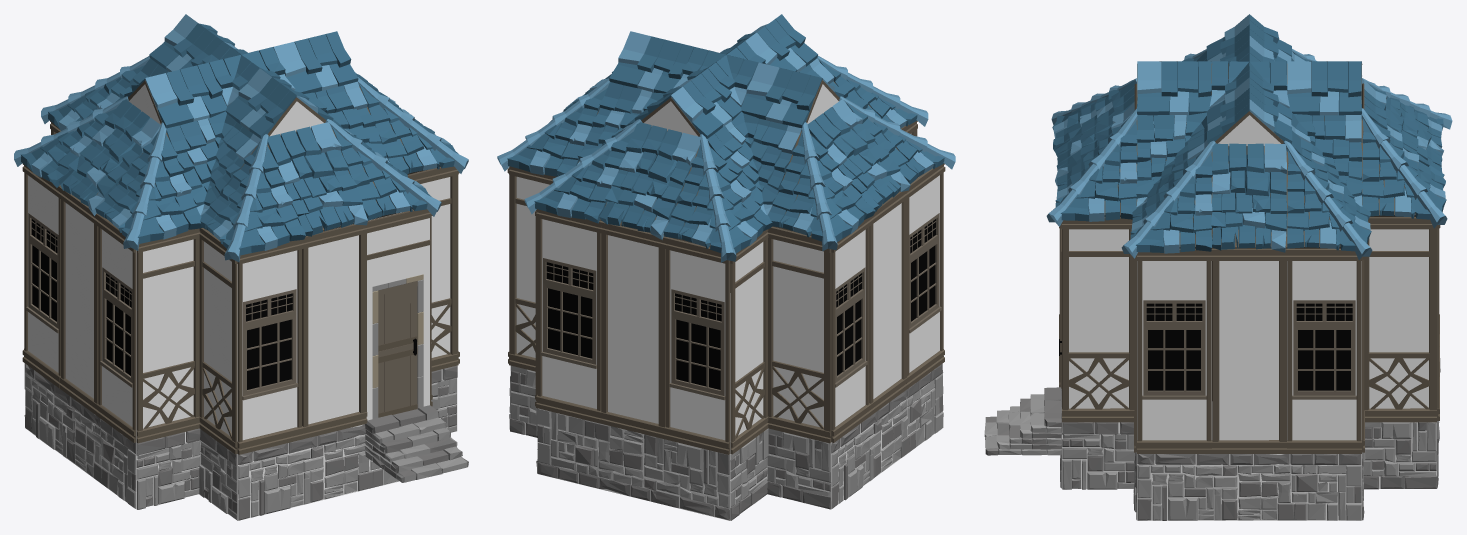
File: House_03_full.fbx
The picture shows the model from 3 angles, left to right: view 1: azimuth 30°, elevation 25°; view 2: azimuth 150°, elevation 25°; view 3: azimuth 270°, elevation 25°; orthographic projection.
Visible parts, largest first — view 1: WALL_03_3, WINDOW_04_3, WALL_04_4, DOOR_02_2, FOUNDATION_02_10, WINDOW_04_4, WALL_04_3, WALL_03_4, WINDOW_04_5, FOUNDATION_02_11, ROOF_base_3, ROOF_corner_out_3 (+20 smaller); view 2: WALL_03_5, WINDOW_04_6, WINDOW_04_7, WALL_04_5, FOUNDATION_02_12, WALL_03_4, WINDOW_04_5, WALL_04_6, WINDOW_04_4, FOUNDATION_02_11, ROOF_base_5, ROOF_corner_out_6 (+21 smaller); view 3: WALL_03_6, WINDOW_04_8, WINDOW_04_9, FOUNDATION_02_13, WALL_04_7, WALL_04_10, ROOF_base_4, ROOF_corner_out_5, ROOF_corner_out_4, ROOF_corner_out_2, ROOF_corner_out_7, FOUNDATION_03_17 (+19 smaller).
Part boxes in pixels (box(x1,y1,x2,y2)): WALL_03_3: box(302, 223, 367, 438); WINDOW_04_3: box(237, 240, 303, 454); WALL_04_4: box(136, 228, 200, 443); DOOR_02_2: box(366, 209, 431, 420); FOUNDATION_02_10: box(237, 424, 399, 520); WINDOW_04_4: box(96, 214, 136, 442); WALL_04_3: box(199, 228, 237, 454); WALL_03_4: box(59, 187, 98, 415); WINDOW_04_5: box(22, 163, 61, 388); FOUNDATION_02_11: box(25, 364, 136, 509); ROOF_base_3: box(267, 122, 367, 236); ROOF_corner_out_3: box(200, 134, 305, 262); WALL_03_5: box(600, 221, 665, 438); WINDOW_04_6: box(664, 237, 730, 454); WINDOW_04_7: box(536, 209, 601, 423); WALL_04_5: box(767, 226, 831, 443); FOUNDATION_02_12: box(537, 408, 729, 520); WALL_03_4: box(869, 190, 907, 415); WINDOW_04_5: box(831, 217, 870, 442); WALL_04_6: box(730, 229, 768, 454); WINDOW_04_4: box(906, 163, 945, 388); FOUNDATION_02_11: box(831, 364, 943, 508); ROOF_base_5: box(599, 122, 700, 239); ROOF_corner_out_6: box(663, 134, 772, 262); WALL_03_6: box(1212, 248, 1286, 453); WINDOW_04_8: box(1287, 248, 1361, 453); WINDOW_04_9: box(1137, 248, 1211, 453); FOUNDATION_02_13: box(1137, 454, 1361, 520); WALL_04_7: box(1364, 217, 1436, 422); WALL_04_10: box(1062, 217, 1134, 422); ROOF_base_4: box(1211, 143, 1287, 252); ROOF_corner_out_5: box(1121, 140, 1216, 258); ROOF_corner_out_4: box(1283, 140, 1372, 260); ROOF_corner_out_2: box(1046, 108, 1137, 226); ROOF_corner_out_7: box(1361, 108, 1447, 228); FOUNDATION_03_17: box(1062, 422, 1134, 489).
Bounding box in the file's own units: 541 × 559 × 624.
